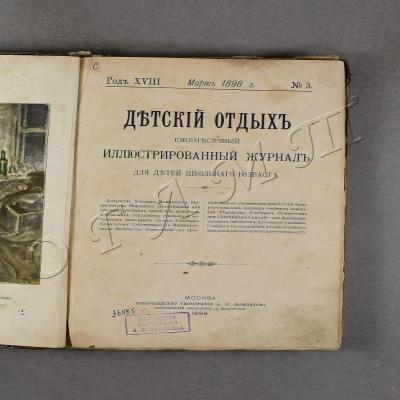rare_books: (0, 54, 347, 351)
